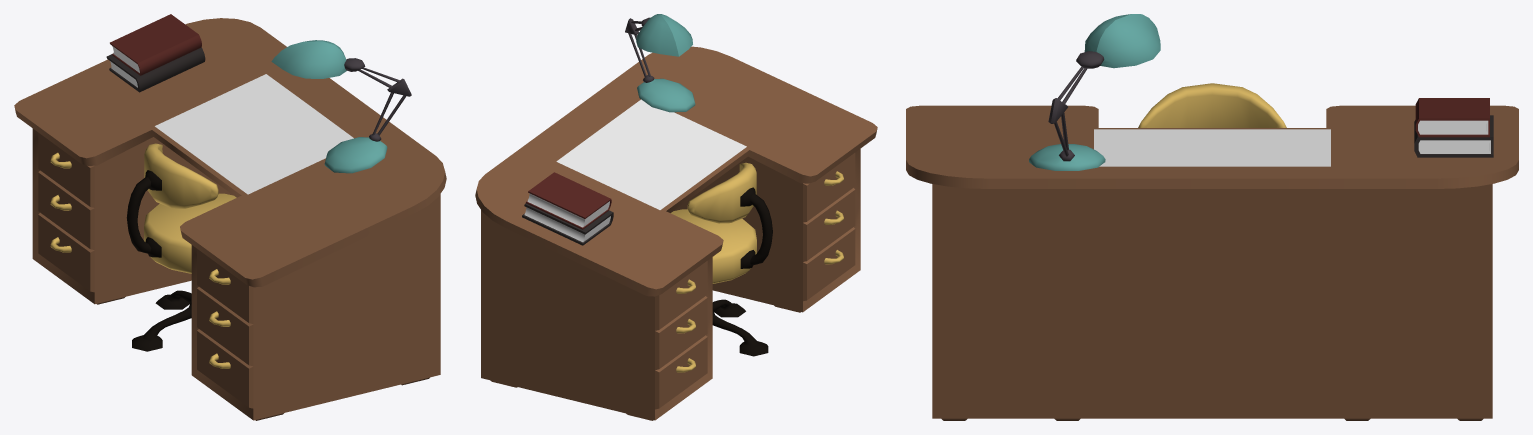
The model's file is 112_desk.glb.
The picture shows the model from 3 angles, left to right: view 1: azimuth 30°, elevation 25°; view 2: azimuth 150°, elevation 25°; view 3: azimuth 270°, elevation 25°; orthographic projection. The views are drawn at different scales.
Visible parts, largest first — view 1: desk, paper, chair, lamp, book top, book bottom; view 2: desk, paper, chair, lamp, book top, book bottom; view 3: desk, paper, lamp, chair, book top, book bottom.
Part boxes in pixels (x1,y1,x2,y2): desk: (14,18,446,420); paper: (155,74,353,194); chair: (126,143,236,351); lamp: (271,40,411,173); book top: (110,14,201,75); book bottom: (106,47,205,92); desk: (475,46,877,420); paper: (556,99,746,209); chair: (671,162,772,356); lamp: (625,14,695,112); book top: (526,172,611,229); book bottom: (522,203,613,245); desk: (906,105,1518,420); paper: (1094,129,1330,166); lamp: (1029,14,1160,170); chair: (1138,83,1286,127); book top: (1415,98,1489,137); book bottom: (1414,115,1493,157).
Size of the model in its own units: 1.46 by 1.87 by 2.75.
